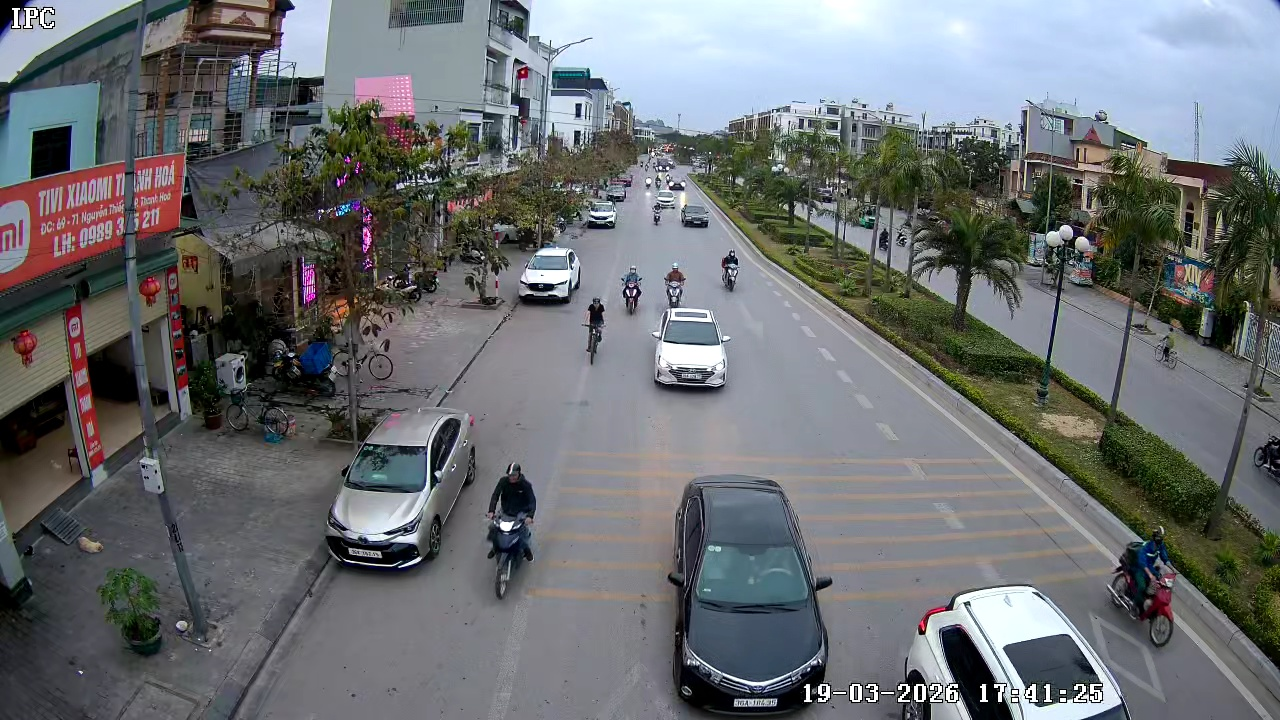bike: (581, 296, 607, 366)
car: (664, 473, 837, 710), (897, 581, 1135, 719), (324, 406, 477, 571), (650, 305, 732, 391), (517, 246, 582, 304), (584, 200, 620, 229), (679, 201, 710, 227)
motorbike: (1106, 526, 1180, 648), (482, 460, 539, 600), (620, 265, 643, 315), (663, 260, 687, 307), (719, 250, 740, 293), (1157, 336, 1179, 370), (649, 199, 664, 225)
